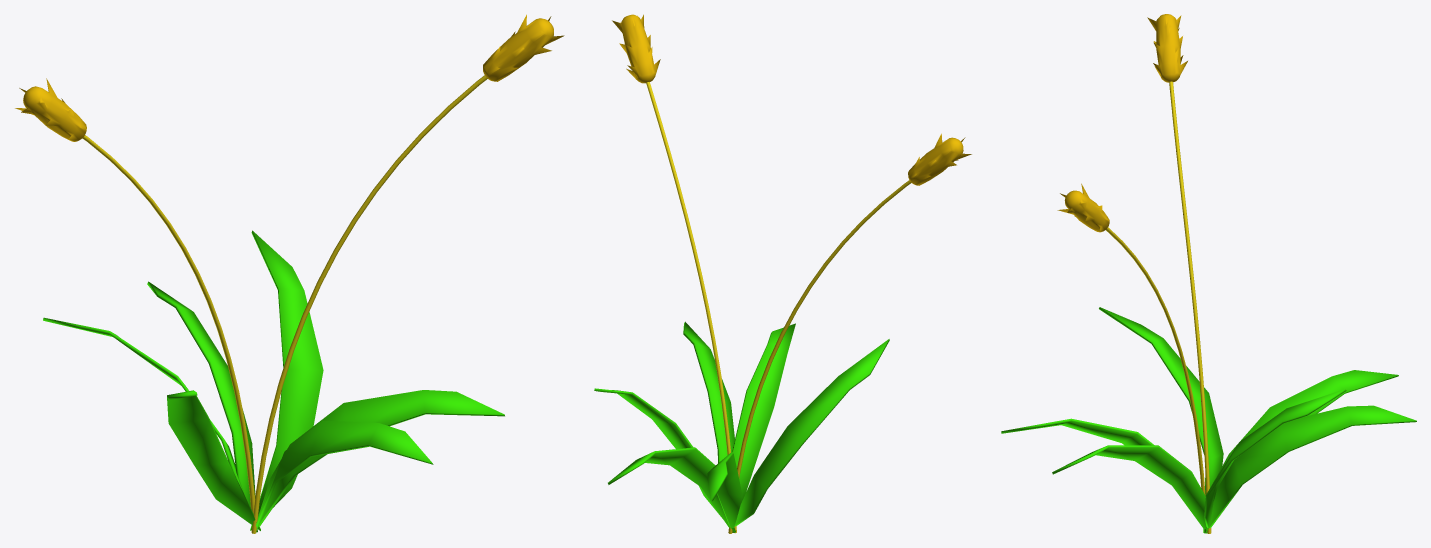
File: pflanze_gras low.gltf
3 views of the same model, side by side, from view 1: azimuth 30°, elevation 25°; view 2: azimuth 150°, elevation 25°; view 3: azimuth 270°, elevation 25° (orthographic). The views are drawn at different scales.
Parts seen in each view (by area): view 1: Plane.002, Plane.001; view 2: Plane.002, Plane.001; view 3: Plane.002, Plane.001.
Boxes of the visible parts, box(x1,y1,x2,y2) form: Plane.002: box(43, 230, 504, 532); Plane.001: box(15, 14, 564, 533); Plane.002: box(594, 321, 889, 532); Plane.001: box(612, 14, 971, 533); Plane.002: box(1001, 307, 1416, 533); Plane.001: box(1057, 14, 1211, 533).
Bounding box in the file's own units: 0.3772 × 0.3906 × 0.3446.
